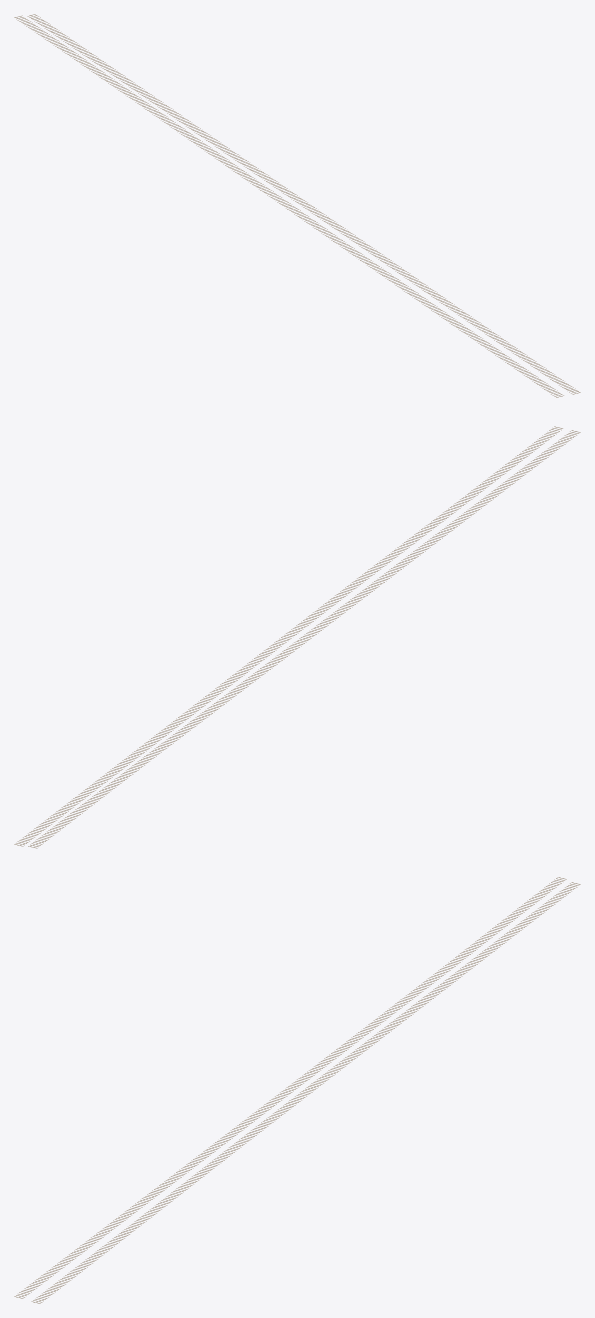
The model's file is c_1629_17839_rail_sleeper.glb.
3 views of the same model, one above another, from view 1: azimuth 30°, elevation 25°; view 2: azimuth 150°, elevation 25°; view 3: azimuth 330°, elevation 25° (orthographic). The views are drawn at different scales.
Visible parts, largest first — view 1: geometry_0; view 2: geometry_0; view 3: geometry_0.
Part boxes in pixels (x1,y1,x2,y2): geometry_0: (14,14,580,397); geometry_0: (14,426,580,848); geometry_0: (14,877,580,1303).
Bounding box in the file's own units: 12.3 × 0.6411 × 256.
